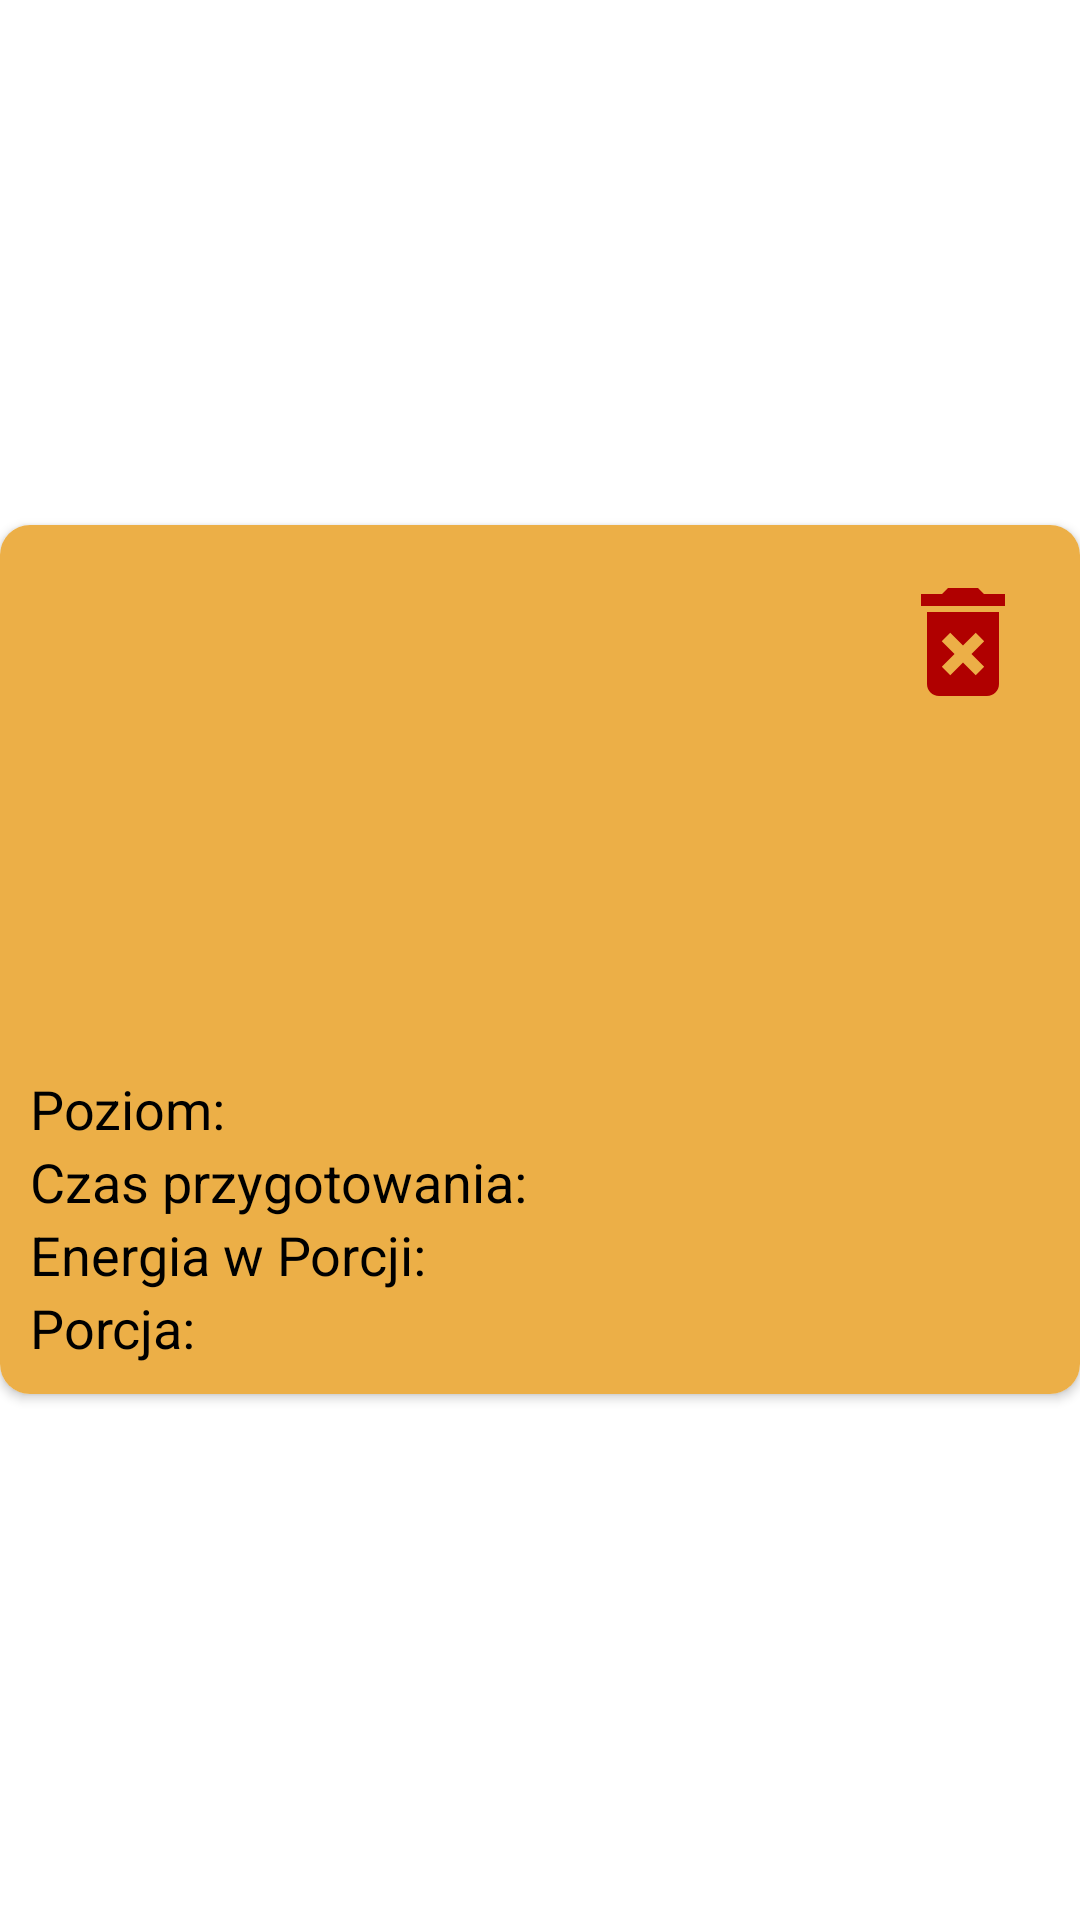

Named icons in this screenshot (1080 × 1920) and their centers, (x,y):
del liked: (963,642)
